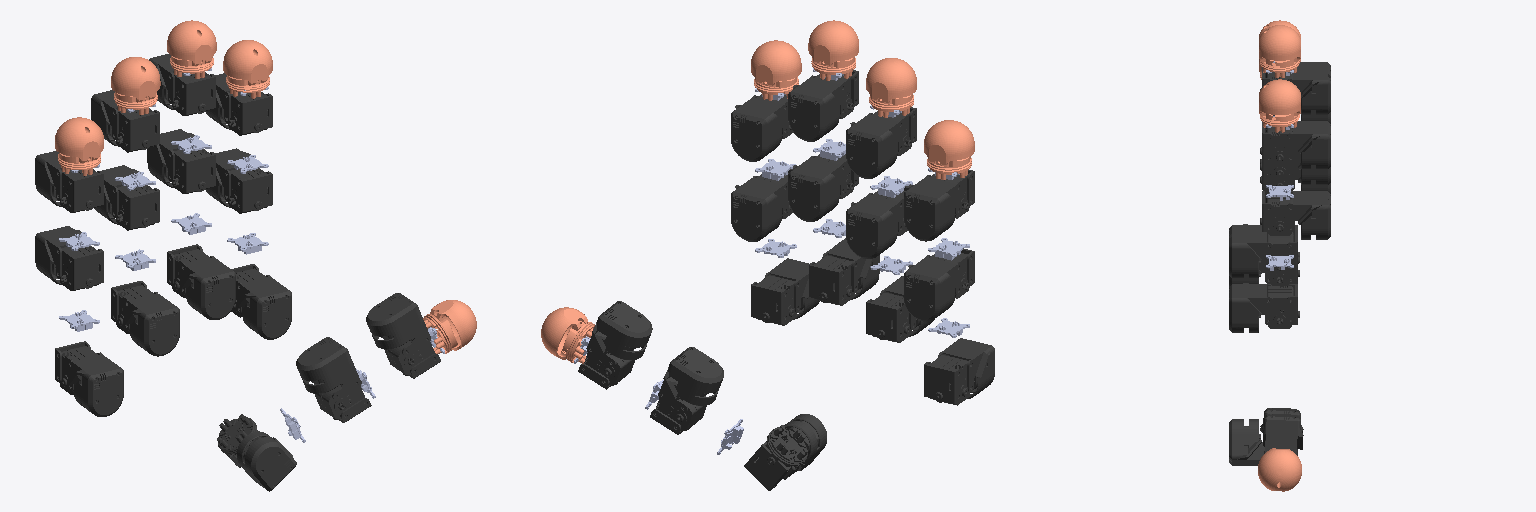
--- Facts derived from the render (not from the file) ---
3 views of the same robot in one strip: view 1: azimuth 30°, elevation 25°; view 2: azimuth 150°, elevation 25°; view 3: azimuth 270°, elevation 25° (orthographic).
Model hand_robot with 60 links and 59 joints (19 revolute, 40 fixed), rooted at base_link, posed every joint at zero.
Links seen in each view (by area): view 1: thumb_module2_link1, thumb_module3_link1, little_module1_link1, middle_module1_link1, ring_module1_link1, index_module1_link1, little_module2_link1, middle_module2_link1, little_module3_link1, index_module2_link1, ring_module3_link1, ring_module2_link1 (+9 smaller); view 2: thumb_module3_link1, thumb_module2_link1, little_module2_link1, little_module1_link1, little_module3_link1, middle_module3_link1, ring_module3_link1, middle_module2_link1, index_module1_link1, ring_module2_link1, middle_module1_link1, index_module2_link1 (+9 smaller); view 3: index_module1_link1, index_module2_link1, index_module3_link1, middle_module1_link1, index_module4_base_link, middle_module4_base_link, middle_module3_link1, thumb_module4_base_link, thumb_module1_link1, thumb_module3_link1, middle_module2_link1, little_module1_link1 (+1 smaller).
Link boxes in pixels (bbox=[...]): thumb_module2_link1: bbox=[296, 337, 371, 422]; thumb_module3_link1: bbox=[366, 293, 440, 378]; little_module1_link1: bbox=[55, 341, 123, 416]; middle_module1_link1: bbox=[167, 244, 235, 319]; ring_module1_link1: bbox=[111, 281, 179, 356]; index_module1_link1: bbox=[231, 264, 291, 339]; little_module2_link1: bbox=[35, 226, 103, 290]; middle_module2_link1: bbox=[147, 129, 215, 193]; little_module3_link1: bbox=[35, 151, 103, 212]; index_module2_link1: bbox=[206, 148, 272, 213]; ring_module3_link1: bbox=[91, 90, 159, 152]; ring_module2_link1: bbox=[94, 165, 159, 230]; thumb_module3_link1: bbox=[578, 301, 652, 389]; thumb_module2_link1: bbox=[650, 347, 723, 434]; little_module2_link1: bbox=[904, 248, 974, 321]; little_module1_link1: bbox=[924, 338, 994, 405]; little_module3_link1: bbox=[904, 170, 974, 241]; middle_module3_link1: bbox=[788, 70, 858, 141]; ring_module3_link1: bbox=[846, 107, 916, 178]; middle_module2_link1: bbox=[788, 154, 858, 221]; index_module1_link1: bbox=[751, 258, 819, 325]; ring_module2_link1: bbox=[846, 186, 908, 258]; middle_module1_link1: bbox=[809, 238, 879, 305]; index_module2_link1: bbox=[731, 169, 792, 241]; index_module1_link1: bbox=[1229, 283, 1299, 332]; index_module2_link1: bbox=[1260, 191, 1330, 239]; index_module3_link1: bbox=[1260, 121, 1330, 169]; middle_module1_link1: bbox=[1229, 229, 1299, 278]; index_module4_base_link: bbox=[1259, 79, 1300, 132]; middle_module4_base_link: bbox=[1259, 25, 1300, 77]; middle_module3_link1: bbox=[1262, 66, 1330, 114]; thumb_module4_base_link: bbox=[1258, 448, 1301, 491]; thumb_module1_link1: bbox=[1229, 419, 1297, 465]; thumb_module3_link1: bbox=[1263, 414, 1303, 454]; middle_module2_link1: bbox=[1260, 151, 1330, 184]; little_module1_link1: bbox=[1229, 260, 1299, 287].
Bounding box of the posed robot: 0.4067 × 0.096 × 0.4322 m (x, y, z).
Meshes: 20 distinct files referenced, 36 mesh visuals loaded (7 Collada DAE); not drawn: 24 (reference not matched to a file when rendering).

robot.urdf — hand_robot:
<?xml version="1.0" encoding="UTF-8"?>
<!-- =================================================================================== -->
<!-- |    This document was autogenerated by xacro from [local-path]/ros/kxr/src/walking_hand/handrobot_model/hand_robot.xacro | -->
<!-- |    EDITING THIS FILE BY HAND IS NOT RECOMMENDED                                 | -->
<!-- =================================================================================== -->
<robot name="hand_robot">
  <link name="base_link">
    <inertial>
      <origin xyz="-0.0537837189568639 -0.000735089523891269 0.0875877825389031" rpy="0.0 -0.0 0.0" />
      <mass value="0.274553101575067" />
      <inertia ixx="0.000434149537516523" ixy="3.82592618679265e-06" ixz="-0.000192550140415889" iyy="0.00117466284857924" iyz="1.01174695313173e-05" izz="0.000782483739198173" />
    </inertial>
    <visual>
      <geometry>
        <mesh filename="package://palm/meshes/base_link.dae" />
      </geometry>
      <material name="__unnamed_material_1" />
      <origin xyz="0.0 0.0 0.0" rpy="0.0 -0.0 0.0" />
    </visual>
    <collision>
      <geometry>
        <mesh filename="package://palm/meshes/base_link.dae" />
      </geometry>
      <origin xyz="0.0 0.0 0.0" rpy="0.0 -0.0 0.0" />
    </collision>
  </link>
  <link name="dummy_link1">
    <inertial>
      <origin xyz="-0.000172481557313531 6.01982933235365e-05 -0.00259009685862507" rpy="0.0 -0.0 0.0" />
      <mass value="0.0119886897783525" />
      <inertia ixx="1.92006679954346e-06" ixy="2.28901701935475e-09" ixz="-5.68819834183881e-09" iyy="1.95430556833594e-06" iyz="6.27899886931677e-10" izz="3.69885599478183e-06" />
    </inertial>
    <visual>
      <geometry>
        <mesh filename="package://palm/meshes/dummy_link1.dae" />
      </geometry>
      <material name="__unnamed_material_2" />
      <origin xyz="0.0 0.0 0.0" rpy="0.0 -0.0 0.0" />
    </visual>
    <collision>
      <geometry>
        <mesh filename="package://palm/meshes/dummy_link1.dae" />
      </geometry>
      <origin xyz="0.0 0.0 0.0" rpy="0.0 -0.0 0.0" />
    </collision>
  </link>
  <link name="dummy_link2">
    <inertial>
      <origin xyz="-0.000172481557313628 6.01982933235283e-05 -0.00259009685862507" rpy="0.0 -0.0 0.0" />
      <mass value="0.0119886897783526" />
      <inertia ixx="1.92006679954346e-06" ixy="2.28901701935204e-09" ixz="-5.68819834183908e-09" iyy="1.95430556833594e-06" iyz="6.27899886931739e-10" izz="3.69885599478183e-06" />
    </inertial>
    <visual>
      <geometry>
        <mesh filename="package://palm/meshes/dummy_link2.dae" />
      </geometry>
      <material name="__unnamed_material_3" />
      <origin xyz="0.0 0.0 0.0" rpy="0.0 -0.0 0.0" />
    </visual>
    <collision>
      <geometry>
        <mesh filename="package://palm/meshes/dummy_link2.dae" />
      </geometry>
      <origin xyz="0.0 0.0 0.0" rpy="0.0 -0.0 0.0" />
    </collision>
  </link>
  <link name="dummy_link3">
    <inertial>
      <origin xyz="-0.000172481557313607 6.01982933235322e-05 -0.00259009685862505" rpy="0.0 -0.0 0.0" />
      <mass value="0.0119886897783526" />
      <inertia ixx="1.92006679954346e-06" ixy="2.28901701935102e-09" ixz="-5.68819834183894e-09" iyy="1.95430556833594e-06" iyz="6.2789988693156e-10" izz="3.69885599478183e-06" />
    </inertial>
    <visual>
      <geometry>
        <mesh filename="package://palm/meshes/dummy_link3.dae" />
      </geometry>
      <material name="__unnamed_material_4" />
      <origin xyz="0.0 0.0 0.0" rpy="0.0 -0.0 0.0" />
    </visual>
    <collision>
      <geometry>
        <mesh filename="package://palm/meshes/dummy_link3.dae" />
      </geometry>
      <origin xyz="0.0 0.0 0.0" rpy="0.0 -0.0 0.0" />
    </collision>
  </link>
  <link name="dummy_link4">
    <inertial>
      <origin xyz="-0.00017248155731359 6.01982933235428e-05 -0.00259009685862505" rpy="0.0 -0.0 0.0" />
      <mass value="0.0119886897783526" />
      <inertia ixx="1.92006679954347e-06" ixy="2.28901701935341e-09" ixz="-5.68819834183874e-09" iyy="1.95430556833594e-06" iyz="6.27899886931517e-10" izz="3.69885599478184e-06" />
    </inertial>
    <visual>
      <geometry>
        <mesh filename="package://palm/meshes/dummy_link4.dae" />
      </geometry>
      <material name="__unnamed_material_5" />
      <origin xyz="0.0 0.0 0.0" rpy="0.0 -0.0 0.0" />
    </visual>
    <collision>
      <geometry>
        <mesh filename="package://palm/meshes/dummy_link4.dae" />
      </geometry>
      <origin xyz="0.0 0.0 0.0" rpy="0.0 -0.0 0.0" />
    </collision>
  </link>
  <link name="dummy_link5">
    <inertial>
      <origin xyz="-0.000172556814431887 6.02216550355177e-05 -0.00259010777209796" rpy="0.0 -0.0 0.0" />
      <mass value="0.0119886601362974" />
      <inertia ixx="1.9201418091373e-06" ixy="2.27696720708466e-09" ixz="-5.68868325973998e-09" iyy="1.95428446813742e-06" iyz="6.2782306321744e-10" izz="3.6989097395101e-06" />
    </inertial>
    <visual>
      <geometry>
        <mesh filename="package://palm/meshes/dummy_link5.dae" />
      </geometry>
      <material name="__unnamed_material_6" />
      <origin xyz="0.0 0.0 0.0" rpy="0.0 -0.0 0.0" />
    </visual>
    <collision>
      <geometry>
        <mesh filename="package://palm/meshes/dummy_link5.dae" />
      </geometry>
      <origin xyz="0.0 0.0 0.0" rpy="0.0 -0.0 0.0" />
    </collision>
  </link>
  <joint name="dummy_joint1" type="fixed">
    <limit effort="0.0" velocity="0.0" />
    <parent link="base_link" />
    <child link="dummy_link1" />
    <axis xyz="0. 0. 0." />
    <origin xyz="-0.134 0.0 0.104" rpy="0.0 -0.0 0.0" />
  </joint>
  <joint name="dummy_joint2" type="fixed">
    <limit effort="0.0" velocity="0.0" />
    <parent link="base_link" />
    <child link="dummy_link2" />
    <axis xyz="0. 0. 0." />
    <origin xyz="-0.0790000000000001 0.0 0.148" rpy="0.0 -0.0 0.0" />
  </joint>
  <joint name="dummy_joint3" type="fixed">
    <limit effort="0.0" velocity="0.0" />
    <parent link="base_link" />
    <child link="dummy_link3" />
    <axis xyz="0. 0. 0." />
    <origin xyz="-0.024 0.0 0.169" rpy="0.0 -0.0 0.0" />
  </joint>
  <joint name="dummy_joint4" type="fixed">
    <limit effort="0.0" velocity="0.0" />
    <parent link="base_link" />
    <child link="dummy_link4" />
    <axis xyz="0. 0. 0." />
    <origin xyz="0.0309999999999999 0.0 0.138" rpy="0.0 -0.0 0.0" />
  </joint>
  <joint name="dummy_joint5" type="fixed">
    <limit effort="0.0" velocity="0.0" />
    <parent link="base_link" />
    <child link="dummy_link5" />
    <axis xyz="0. 0. 0." />
    <origin xyz="0.018463196704848 0.0 0.0524638930461059" rpy="3.14159265358979 0.6356359574700541 3.14159265358978" />
  </joint>
  <material name="__unnamed_material_1">
    <color rgba="0.29803922 0.29803922 0.29803922 1.        " />
  </material>
  <material name="__unnamed_material_2">
    <color rgba="0.75294118 0.75294118 0.75294118 1.        " />
  </material>
  <material name="__unnamed_material_3">
    <color rgba="0.75294118 0.75294118 0.75294118 1.        " />
  </material>
  <material name="__unnamed_material_4">
    <color rgba="0.75294118 0.75294118 0.75294118 1.        " />
  </material>
  <material name="__unnamed_material_5">
    <color rgba="0.75294118 0.75294118 0.75294118 1.        " />
  </material>
  <material name="__unnamed_material_6">
    <color rgba="0.75294118 0.75294118 0.75294118 1.        " />
  </material>
  <joint name="dummy_link1_to_little_module1_base_link_joint" type="fixed">
    <parent link="dummy_link1" />
    <child link="little_module1_base_link" />
    <origin xyz="0 0 0" rpy="0.0 0.0 3.14159265359" />
  </joint>
  <link name="little_module1_base_link">
    <inertial>
      <origin xyz="-0.000213433946328543 -0.000522257566248314 0.010512356078851" rpy="0.0 -0.0 0.0" />
      <mass value="0.0119791718336502" />
      <inertia ixx="1.31621870893497e-06" ixy="-5.13940617703683e-09" ixz="6.92655022774858e-09" iyy="1.42670892278346e-06" iyz="5.85355266632325e-09" izz="1.57468742862286e-06" />
    </inertial>
    <visual>
      <geometry>
        <mesh filename="package://screw_cross_module_cover_invert_50mm/meshes/base_link.dae" />
      </geometry>
      <material name="little_module1___unnamed_material_1" />
      <origin xyz="0.0 0.0 0.0" rpy="0.0 -0.0 0.0" />
    </visual>
    <collision>
      <geometry>
        <mesh filename="package://screw_cross_module_cover_invert_50mm/meshes/base_link.dae" />
      </geometry>
      <origin xyz="0.0 0.0 0.0" rpy="0.0 -0.0 0.0" />
    </collision>
  </link>
  <link name="little_module1_link1">
    <inertial>
      <origin xyz="2.40548098907604e-05 0.0170200166175038 0.00743211422338727" rpy="0.0 -0.0 0.0" />
      <mass value="0.0528420021206123" />
      <inertia ixx="8.46927525862569e-06" ixy="3.77104103813554e-08" ixz="-2.40264131836263e-09" iyy="9.18514204610879e-06" iyz="3.33117292501083e-07" izz="7.42897064027825e-06" />
    </inertial>
    <visual>
      <geometry>
        <mesh filename="package://screw_cross_module_cover_invert_50mm/meshes/link1.dae" />
      </geometry>
      <material name="little_module1___unnamed_material_2" />
      <origin xyz="0.0 0.0 0.0" rpy="0.0 -0.0 0.0" />
    </visual>
    <collision>
      <geometry>
        <mesh filename="package://screw_cross_module_cover_invert_50mm/meshes/link1.dae" />
      </geometry>
      <origin xyz="0.0 0.0 0.0" rpy="0.0 -0.0 0.0" />
    </collision>
  </link>
  <link name="little_module1_link2">
    <inertial>
      <origin xyz="-0.000799904651096249 0.000126545018078978 0.0439031855091127" rpy="0.0 -0.0 0.0" />
      <mass value="0.0184890044461961" />
      <inertia ixx="3.86018266499349e-06" ixy="-2.57346007074634e-09" ixz="-1.33830705751634e-08" iyy="3.71216828080987e-06" iyz="1.02631852497554e-09" izz="3.85438258007771e-06" />
    </inertial>
    <visual>
      <geometry>
        <mesh filename="package://screw_cross_module_cover_invert_50mm/meshes/link2.dae" />
      </geometry>
      <material name="little_module1___unnamed_material_3" />
      <origin xyz="0.0 0.0 0.0" rpy="0.0 -0.0 0.0" />
    </visual>
    <collision>
      <geometry>
        <mesh filename="package://screw_cross_module_cover_invert_50mm/meshes/link2.dae" />
      </geometry>
      <origin xyz="0.0 0.0 0.0" rpy="0.0 -0.0 0.0" />
    </collision>
  </link>
  <link name="little_module1_dummy_link">
    <inertial>
      <origin xyz="-0.00146131369472048 0.000201870283507455 -0.00283550060362608" rpy="0.0 -0.0 0.0" />
      <mass value="0.00131295075943631" />
      <inertia ixx="5.41755504446202e-08" ixy="1.27650591705179e-09" ixz="-4.82976525885559e-09" iyy="5.88144881419791e-08" iyz="3.56234285318554e-10" izz="1.05520720481508e-07" />
    </inertial>
    <visual>
      <geometry>
        <mesh filename="package://screw_cross_module_cover_invert_50mm/meshes/dummy_link.dae" />
      </geometry>
      <material name="little_module1___unnamed_material_4" />
      <origin xyz="0.0 0.0 0.0" rpy="0.0 -0.0 0.0" />
    </visual>
    <collision>
      <geometry>
        <mesh filename="package://screw_cross_module_cover_invert_50mm/meshes/dummy_link.dae" />
      </geometry>
      <origin xyz="0.0 0.0 0.0" rpy="0.0 -0.0 0.0" />
    </collision>
  </link>
  <joint name="little_module1_joint1" type="revolute">
    <limit effort="0.0" lower="-1.5" upper="1.5" velocity="0.0" />
    <parent link="little_module1_base_link" />
    <child link="little_module1_link1" />
    <axis xyz=" 0. -1.  0." />
    <origin xyz="0.0 0.0 0.0349999999999999" rpy="0.0 -0.0 0.0" />
  </joint>
  <joint name="little_module1_joint2" type="revolute">
    <limit effort="0.0" lower="-0.698" upper="1.57" velocity="0.0" />
    <parent link="little_module1_link1" />
    <child link="little_module1_link2" />
    <axis xyz="1. 0. 0." />
    <origin xyz="0.0 0.0 0.0" rpy="0.0 -0.0 0.0" />
  </joint>
  <joint name="little_module1_dummy_joint" type="fixed">
    <limit effort="0.0" velocity="0.0" />
    <parent link="little_module1_link2" />
    <child link="little_module1_dummy_link" />
    <axis xyz="0. 0. 0." />
    <origin xyz="0.0 0.0 0.0569999998698719" rpy="0.0 -0.0 -1.5707963267949003" />
  </joint>
  <material name="little_module1___unnamed_material_1">
    <color rgba="0.75294118 0.75294118 0.75294118 1.        " />
  </material>
  <material name="little_module1___unnamed_material_2">
    <color rgba="0.29803922 0.29803922 0.29803922 1.        " />
  </material>
  <material name="little_module1___unnamed_material_3">
    <color rgba="0.75294118 0.75294118 0.75294118 1.        " />
  </material>
  <material name="little_module1___unnamed_material_4">
    <color rgba="0.79215686 0.81960784 0.93333333 1.        " />
  </material>
  <joint name="little_module1_dummy_link_to_little_module2_base_link_joint" type="fixed">
    <parent link="little_module1_dummy_link" />
    <child link="little_module2_base_link" />
    <origin xyz="0 0 0" rpy="0 0 -1.5707963267948966" />
  </joint>
  <link name="little_module2_base_link">
    <inertial>
      <origin xyz="-0.000397243037985137 -0.000299123988951571 0.0268900174967925" rpy="0.0 -0.0 0.0" />
      <mass value="0.0392907478850212" />
      <inertia ixx="6.49315163386437e-06" ixy="-1.58700153015025e-07" ixz="1.07943557378575e-07" iyy="7.59585884582494e-06" iyz="-1.02493309535865e-09" izz="5.32693747823652e-06" />
    </inertial>
    <visual>
      <geometry>
        <mesh filename="package://screw_26mmhinge_module_cover_0deg/meshes/base_link.dae" />
      </geometry>
      <material name="little_module2___unnamed_material_1" />
      <origin xyz="0.0 0.0 0.0" rpy="0.0 -0.0 0.0" />
    </visual>
    <collision>
      <geometry>
        <mesh filename="package://screw_26mmhinge_module_cover_0deg/meshes/base_link.dae" />
      </geometry>
      <origin xyz="0.0 0.0 0.0" rpy="0.0 -0.0 0.0" />
    </collision>
  </link>
  <link name="little_module2_link1">
    <inertial>
      <origin xyz="0.00050176181802974 0.000131881332311372 0.0261566388593281" rpy="0.0 -0.0 0.0" />
      <mass value="0.015679495466009" />
      <inertia ixx="2.36251577154097e-06" ixy="-2.28902268828607e-09" ixz="1.04881203366641e-08" iyy="2.26742863290264e-06" iyz="5.68818291644029e-09" izz="3.78920030884968e-06" />
    </inertial>
    <visual>
      <geometry>
        <mesh filename="package://screw_26mmhinge_module_cover_0deg/meshes/link1.dae" />
      </geometry>
      <material name="little_module2___unnamed_material_2" />
      <origin xyz="0.0 0.0 0.0" rpy="0.0 -0.0 0.0" />
    </visual>
    <collision>
      <geometry>
        <mesh filename="package://screw_26mmhinge_module_cover_0deg/meshes/link1.dae" />
      </geometry>
      <origin xyz="0.0 0.0 0.0" rpy="0.0 -0.0 0.0" />
    </collision>
  </link>
  <link name="little_module2_dummy_link">
    <inertial>
      <origin xyz="-0.0014613136949066 0.000201870283592702 -0.00283550060370832" rpy="0.0 -0.0 0.0" />
      <mass value="0.00131295075943631" />
      <inertia ixx="5.41755504446753e-08" ixy="1.27650591704971e-09" ixz="-4.82976525914748e-09" iyy="5.88144881419792e-08" iyz="3.56234285325651e-10" izz="1.05520720481453e-07" />
    </inertial>
    <visual>
      <geometry>
        <mesh filename="package://screw_26mmhinge_module_cover_0deg/meshes/dummy_link.dae" />
      </geometry>
      <material name="little_module2___unnamed_material_3" />
      <origin xyz="0.0 0.0 0.0" rpy="0.0 -0.0 0.0" />
    </visual>
    <collision>
      <geometry>
        <mesh filename="package://screw_26mmhinge_module_cover_0deg/meshes/dummy_link.dae" />
      </geometry>
      <origin xyz="0.0 0.0 0.0" rpy="0.0 -0.0 0.0" />
    </collision>
  </link>
  <joint name="little_module2_joint1" type="revolute">
    <limit effort="0.0" lower="0.0" upper="1.78" velocity="0.0" />
    <parent link="little_module2_base_link" />
    <child link="little_module2_link1" />
    <axis xyz="-1.  0.  0." />
    <origin xyz="0.0 0.0 0.04" rpy="0.0 -0.0 0.0" />
  </joint>
  <joint name="little_module2_dummy_joint" type="fixed">
    <limit effort="0.0" velocity="0.0" />
    <parent link="little_module2_link1" />
    <child link="little_module2_dummy_link" />
    <axis xyz="0. 0. 0." />
    <origin xyz="0.0 0.0 0.033" rpy="0.0 -0.0 -1.57079632679492" />
  </joint>
  <material name="little_module2___unnamed_material_1">
    <color rgba="0.75294118 0.75294118 0.75294118 1.        " />
  </material>
  <material name="little_module2___unnamed_material_2">
    <color rgba="0.29803922 0.29803922 0.29803922 1.        " />
  </material>
  <material name="little_module2___unnamed_material_3">
    <color rgba="0.79215686 0.81960784 0.93333333 1.        " />
  </material>
  <joint name="little_module2_dummy_link_to_little_module3_base_link_joint" type="fixed">
    <parent link="little_module2_dummy_link" />
    <child link="little_module3_base_link" />
    <origin xyz="0 0 0" rpy="0 0 1.5707963267948966" />
  </joint>
  <link name="little_module3_base_link">
    <inertial>
      <origin xyz="-0.000401252669389229 -0.000241503883848603 0.0265833789284656" rpy="0.0 -0.0 0.0" />
      <mass value="0.0388983022333583" />
      <inertia ixx="6.28968153745185e-06" ixy="-1.58891717516252e-07" ixz="1.06958872572826e-07" iyy="7.30853508101172e-06" iyz="2.75384527151901e-08" izz="5.23270325750328e-06" />
    </inertial>
    <visual>
      <geometry>
        <mesh filename="package://screw_26mmhinge_module_cover_40deg/meshes/base_link.dae" />
      </geometry>
      <material name="little_module3___unnamed_material_1" />
      <origin xyz="0.0 0.0 0.0" rpy="0.0 -0.0 0.0" />
    </visual>
    <collision>
      <geometry>
        <mesh filename="package://screw_26mmhinge_module_cover_40deg/meshes/base_link.dae" />
      </geometry>
      <origin xyz="0.0 0.0 0.0" rpy="0.0 -0.0 0.0" />
    </collision>
  </link>
  <link name="little_module3_link1">
    <inertial>
      <origin xyz="0.00050176181802974 0.000131881332311375 0.0261566388593281" rpy="0.0 -0.0 0.0" />
      <mass value="0.0156794954660089" />
      <inertia ixx="2.36251577154097e-06" ixy="-2.28902268828719e-09" ixz="1.04881203366649e-08" iyy="2.26742863290264e-06" iyz="5.68818291644002e-09" izz="3.78920030884968e-06" />
    </inertial>
    <visual>
      <geometry>
        <mesh filename="package://screw_26mmhinge_module_cover_40deg/meshes/link1.dae" />
      </geometry>
      <material name="little_module3___unnamed_material_2" />
      <origin xyz="0.0 0.0 0.0" rpy="0.0 -0.0 0.0" />
    </visual>
    <collision>
      <geometry>
        <mesh filename="package://screw_26mmhinge_module_cover_40deg/meshes/link1.dae" />
      </geometry>
      <origin xyz="0.0 0.0 0.0" rpy="0.0 -0.0 0.0" />
    </collision>
  </link>
  <link name="little_module3_dummy_link">
    <inertial>
      <origin xyz="-0.0014613136949066 0.000201870283592712 -0.00283550060370834" rpy="0.0 -0.0 0.0" />
      <mass value="0.00131295075943631" />
      <inertia ixx="5.41755504446752e-08" ixy="1.27650591704971e-09" ixz="-4.82976525914747e-09" iyy="5.88144881419792e-08" iyz="3.56234285325664e-10" izz="1.05520720481453e-07" />
    </inertial>
    <visual>
      <geometry>
        <mesh filename="package://screw_26mmhinge_module_cover_40deg/meshes/dummy_link.dae" />
      </geometry>
      <material name="little_module3___unnamed_material_3" />
      <origin xyz="0.0 0.0 0.0" rpy="0.0 -0.0 0.0" />
    </visual>
    <collision>
      <geometry>
        <mesh filename="package://screw_26mmhinge_module_cover_40deg/meshes/dummy_link.dae" />
      </geometry>
      <origin xyz="0.0 0.0 0.0" rpy="0.0 -0.0 0.0" />
    </collision>
  </link>
  <joint name="little_module3_joint1" type="revolute">
    <limit effort="0.0" lower="-0.698" upper="1.78" velocity="0.0" />
    <parent link="little_module3_base_link" />
    <child link="little_module3_link1" />
    <axis xyz="-1.  0.  0." />
    <origin xyz="0.0 0.0 0.04" rpy="0.0 -0.0 0.0" />
  </joint>
  <joint name="little_module3_dummy_joint" type="fixed">
    <limit effort="0.0" velocity="0.0" />
    <parent link="little_module3_link1" />
    <child link="little_module3_dummy_link" />
    <axis xyz="0. 0. 0." />
    <origin xyz="0.0 0.0 0.033" rpy="0.0 -0.0 -1.57079632679492" />
  </joint>
  <material name="little_module3___unnamed_material_1">
    <color rgba="1.         0.6627451  0.54117647 1.        " />
  </material>
  <material name="little_module3___unnamed_material_2">
    <color rgba="0.29803922 0.29803922 0.29803922 1.        " />
  </material>
  <material name="little_module3___unnamed_material_3">
    <color rgba="0.79215686 0.81960784 0.93333333 1.        " />
  </material>
  <joint name="little_module3_dummy_link_to_little_module4_base_link_joint" type="fixed">
    <parent link="little_module3_dummy_link" />
    <child link="little_module4_base_link" />
    <origin xyz="0 0 0" rpy="0 0 1.5707963267948966" />
  </joint>
  <link name="little_module4_base_link">
    <inertial>
      <origin xyz="-4.45136749414631e-05 2.74911354251475e-05 0.01526296474957" rpy="0.0 -0.0 0.0" />
      <mass value="0.0143355339373342" />
      <inertia ixx="1.67198153889703e-06" ixy="-3.86118634343168e-09" ixz="2.09684473771432e-09" iyy="2.41636111915256e-06" iyz="2.62797611358753e-09" izz="2.60259577595367e-06" />
    </inertial>
    <visual>
      <geometry>
        <mesh filename="package://fingertip/meshes/base_link.dae" />
      </geometry>
      <material name="little_module4___unnamed_material_1" />
      <origin xyz="0.0 0.0 0.0" rpy="0.0 -0.0 0.0" />
    </visual>
    <collision>
      <geometry>
        <mesh filename="package://fingertip/meshes/base_link.dae" />
      </geometry>
      <origin xyz="0.0 0.0 0.0" rpy="0.0 -0.0 0.0" />
    </collision>
  </link>
  <material name="little_module4___unnamed_material_1">
    <color rgba="1.         0.6627451  0.54117647 1.        " />
  </material>
  <joint name="dummy_link2_to_ring_module1_base_link_joint" type="fixed">
    <parent link="dummy_link2" />
    <child link="ring_module1_base_link" />
    <origin xyz="0 0 0" rpy="0.0 0.0 3.14159265359" />
  </joint>
  <link name="ring_module1_base_link">
    <inertial>
      <origin xyz="-0.000213433946328543 -0.000522257566248314 0.010512356078851" rpy="0.0 -0.0 0.0" />
      <mass value="0.0119791718336502" />
      <inertia ixx="1.31621870893497e-06" ixy="-5.13940617703683e-09" ixz="6.92655022774858e-09" iyy="1.42670892278346e-06" iyz="5.85355266632325e-09" izz="1.57468742862286e-06" />
    </inertial>
    <visual>
      <geometry>
        <mesh filename="package://screw_cross_module_cover_invert_50mm/meshes/base_link.dae" />
      </geometry>
      <material name="ring_module1___unnamed_material_1" />
      <origin xyz="0.0 0.0 0.0" rpy="0.0 -0.0 0.0" />
    </visual>
    <collision>
      <geometry>
        <mesh filename="package://screw_cross_module_cover_invert_50mm/meshes/base_link.dae" />
      </geometry>
      <origin xyz="0.0 0.0 0.0" rpy="0.0 -0.0 0.0" />
    </collision>
  </link>
  <link name="ring_module1_link1">
    <inertial>
      <origin xyz="2.40548098907604e-05 0.0170200166175038 0.00743211422338727" rpy="0.0 -0.0 0.0" />
      <mass value="0.0528420021206123" />
      <inertia ixx="8.46927525862569e-06" ixy="3.77104103813554e-08" ixz="-2.40264131836263e-09" iyy="9.18514204610879e-06" iyz="3.33117292501083e-07" izz="7.42897064027825e-06" />
    </inertial>
    <visual>
      <geometry>
        <mesh filename="package://screw_cross_module_cover_invert_50mm/meshes/link1.dae" />
      </geometry>
      <material name="ring_module1___unnamed_material_2" />
      <origin xyz="0.0 0.0 0.0" rpy="0.0 -0.0 0.0" />
    </visual>
    <collision>
      <geometry>
        <mesh filename="package://screw_cross_module_cover_invert_50mm/meshes/link1.dae" />
      </geometry>
      <origin xyz="0.0 0.0 0.0" rpy="0.0 -0.0 0.0" />
    </collision>
  </link>
  <link name="ring_module1_link2">
    <inertial>
      <origin xyz="-0.000799904651096249 0.000126545018078978 0.0439031855091127" rpy="0.0 -0.0 0.0" />
      <mass value="0.0184890044461961" />
      <inertia ixx="3.86018266499349e-06" ixy="-2.57346007074634e-09" ixz="-1.33830705751634e-08" iyy="3.71216828080987e-06" iyz="1.02631852497554e-09" izz="3.85438258007771e-06" />
    </inertial>
    <visual>
      <geometry>
        <mesh filename="package://screw_cross_module_cover_invert_50mm/meshes/link2.dae" />
      </geometry>
      <material name="ring_module1___unnamed_material_3" />
      <origin xyz="0.0 0.0 0.0" rpy="0.0 -0.0 0.0" />
    </visual>
    <collision>
      <geometry>
        <mesh filename="package://screw_cross_module_cover_invert_50mm/meshes/link2.dae" />
      </geometry>
      <origin xyz="0.0 0.0 0.0" rpy="0.0 -0.0 0.0" />
    </collision>
  </link>
  <link name="ring_module1_dummy_link">
    <inertial>
      <origin xyz="-0.00146131369472048 0.000201870283507455 -0.00283550060362608" rpy="0.0 -0.0 0.0" />
      <mass value="0.00131295075943631" />
      <inertia ixx="5.41755504446202e-08" ixy="1.27650591705179e-09" ixz="-4.82976525885559e-09" iyy="5.88144881419791e-08" iyz="3.56234285318554e-10" izz="1.05520720481508e-07" />
    </inertial>
    <visual>
      <geometry>
        <mesh filename="package://screw_cross_module_cover_invert_50mm/meshes/dummy_link.dae" />
      </geometry>
      <material name="ring_module1___unnamed_material_4" />
      <origin xyz="0.0 0.0 0.0" rpy="0.0 -0.0 0.0" />
    </visual>
    <collision>
      <geometry>
        <mesh filename="package://screw_cross_module_cover_invert_50mm/meshes/dummy_link.dae" />
      </geometry>
      <origin xyz="0.0 0.0 0.0" rpy="0.0 -0.0 0.0" />
    </collision>
  </link>
  <joint name="ring_module1_joint1" type="revolute">
    <limit effort="0.0" lower="-1.5" upper="1.5" velocity="0.0" />
    <parent link="ring_module1_base_link" />
    <child link="ring_module1_link1" />
    <axis xyz=" 0. -1.  0." />
    <origin xyz="0.0 0.0 0.0349999999999999" rpy="0.0 -0.0 0.0" />
  </joint>
  <joint name="ring_module1_joint2" type="revolute">
    <limit effort="0.0" lower="-0.698" upper="1.57" velocity="0.0" />
    <parent link="ring_module1_link1" />
    <child link="ring_module1_link2" />
    <axis xyz="1. 0. 0." />
    <origin xyz="0.0 0.0 0.0" rpy="0.0 -0.0 0.0" />
  </joint>
  <joint name="ring_module1_dummy_joint" type="fixed">
    <limit effort="0.0" velocity="0.0" />
    <parent link="ring_module1_link2" />
    <child link="ring_module1_dummy_link" />
    <axis xyz="0. 0. 0." />
    <origin xyz="0.0 0.0 0.0569999998698719" rpy="0.0 -0.0 -1.5707963267949003" />
  </joint>
  <material name="ring_module1___unnamed_material_1">
    <color rgba="0.75294118 0.75294118 0.75294118 1.        " />
  </material>
  <material name="ring_module1___unnamed_material_2">
    <color rgba="0.29803922 0.29803922 0.29803922 1.        " />
  </material>
  <material name="ring_module1___unnamed_material_3">
    <color rgba="0.75294118 0.75294118 0.75294118 1.        " />
  </material>
  <material name="ring_module1___unnamed_material_4">
    <color rgba="0.79215686 0.81960784 0.93333333 1.        " />
  </material>
  <joint name="ring_module1_dummy_link_to_ring_module2_base_link_joint" type="fixed">
    <parent link="ring_module1_dummy_link" />
    <child link="ring_module2_base_link" />
    <origin xyz="0 0 0" rpy="0 0 -1.5707963267948966" />
  </joint>
  <link name="ring_module2_base_link">
    <inertial>
      <origin xyz="-0.000397243037985137 -0.000299123988951571 0.0268900174967925" rpy="0.0 -0.0 0.0" />
      <mass value="0.0392907478850212" />
      <inertia ixx="6.49315163386437e-06" ixy="-1.58700153015025e-07" ixz="1.07943557378575e-07" iyy="7.59585884582494e-06" iyz="-1.02493309535865e-09" izz="5.32693747823652e-06" />
    </inertial>
    <visual>
      <geometry>
        <mesh filename="package://screw_26mmhinge_module_cover_0deg/meshes/base_link.dae" />
      </geometry>
      <material name="ring_module2___unnamed_material_1" />
      <origin xyz="0.0 0.0 0.0" rpy="0.0 -0.0 0.0" />
    </visual>
    <collision>
      <geometry>
        <mesh filename="package://screw_26mmhinge_module_cover_0deg/meshes/base_link.dae" />
      </geometry>
      <origin xyz="0.0 0.0 0.0" rpy="0.0 -0.0 0.0" />
    </collision>
  </link>
  <link name="ring_module2_link1">
    <inertial>
      <origin xyz="0.00050176181802974 0.000131881332311372 0.0261566388593281" rpy="0.0 -0.0 0.0" />
      <mass value="0.015679495466009" />
      <inertia ixx="2.36251577154097e-06" ixy="-2.28902268828607e-09" ixz="1.04881203366641e-08" iyy="2.26742863290264e-06" iyz="5.68818291644029e-09" izz="3.78920030884968e-06" />
    </inertial>
    <visual>
      <geometry>
        <mesh filename="package://screw_26mmhinge_module_cover_0deg/meshes/link1.dae" />
      </geometry>
      <material name="ring_module2___unnamed_material_2" />
      <origin xyz="0.0 0.0 0.0" rpy="0.0 -0.0 0.0" />
    </visual>
    <collision>
      <geometry>
        <mesh filename="package://screw_26mmhinge_module_cover_0deg/meshes/link1.dae" />
      </geometry>
      <origin xyz="0.0 0.0 0.0" rpy="0.0 -0.0 0.0" />
    </collision>
  </link>
  <link name="ring_module2_dummy_link">
    <inertial>
      <origin xyz="-0.0014613136949066 0.000201870283592702 -0.00283550060370832" rpy="0.0 -0.0 0.0" />
      <mass value="0.00131295075943631" />
      <inertia ixx="5.41755504446753e-08" ixy="1.27650591704971e-09" ixz="-4.82976525914748e-09" iyy="5.88144881419792e-08" iyz="3.56234285325651e-10" izz="1.05520720481453e-07" />
    </inertial>
    <visual>
      <geometry>
        <mesh filename="package://screw_26mmhinge_module_cover_0deg/meshes/dummy_link.dae" />
      </geometry>
      <material name="ring_module2___unnamed_material_3" />
      <origin xyz="0.0 0.0 0.0" rpy="0.0 -0.0 0.0" />
    </visual>
    <collision>
      <geometry>
        <mesh filename="package://screw_26mmhinge_module_cover_0deg/meshes/dummy_link.dae" />
      </geometry>
      <origin xyz="0.0 0.0 0.0" rpy="0.0 -0.0 0.0" />
    </collision>
  </link>
  <joint name="ring_module2_joint1" type="revolute">
    <limit effort="0.0" lower="0.0" upper="1.78" velocity="0.0" />
    <parent link="ring_module2_base_link" />
    <child link="ring_module2_link1" />
    <axis xyz="-1.  0.  0." />
    <origin xyz="0.0 0.0 0.04" rpy="0.0 -0.0 0.0" />
  </joint>
  <joint name="ring_module2_dummy_joint" type="fixed">
    <limit effort="0.0" velocity="0.0" />
    <parent link="ring_module2_link1" />
    <child link="ring_module2_dummy_link" />
    <axis xyz="0. 0. 0." />
    <origin xyz="0.0 0.0 0.033" rpy="0.0 -0.0 -1.57079632679492" />
  </joint>
  <material name="ring_module2___unnamed_material_1">
    <color rgba="0.75294118 0.75294118 0.75294118 1.        " />
  </material>
  <material name="ring_module2___unnamed_material_2">
    <color rgba="0.29803922 0.29803922 0.29803922 1.        " />
  </material>
  <material name="ring_module2___unnamed_material_3">
    <color rgba="0.79215686 0.81960784 0.93333333 1.        " />
  </material>
  <joint name="ring_module2_dummy_link_to_ring_module3_base_link_joint" type="fixed">
    <parent link="ring_module2_dummy_link" />
    <child link="ring_module3_base_link" />
    <origin xyz="0 0 0" rpy="0 0 1.5707963267948966" />
  </joint>
  <link name="ring_module3_base_link">
    <inertial>
      <origin xyz="-0.000401252669389229 -0.000241503883848603 0.0265833789284656" rpy="0.0 -0.0 0.0" />
      <mass value="0.0388983022333583" />
      <inertia ixx="6.28968153745185e-06" ixy="-1.58891717516252e-07" ixz="1.06958872572826e-07" iyy="7.30853508101172e-06" iyz="2.75384527151901e-08" izz="5.23270325750328e-06" />
    </inertial>
    <visual>
      <geometry>
        <mesh filename="package://screw_26mmhinge_module_cover_40deg/meshes/base_link.dae" />
      </geometry>
      <material name="ring_module3___unnamed_material_1" />
      <origin xyz="0.0 0.0 0.0" rpy="0.0 -0.0 0.0" />
    </visual>
    <collision>
      <geometry>
        <mesh filename="package://screw_26mmhinge_module_cover_40deg/meshes/base_link.dae" />
      </geometry>
      <origin xyz="0.0 0.0 0.0" rpy="0.0 -0.0 0.0" />
    </collision>
  </link>
  <link name="ring_module3_link1">
    <inertial>
      <origin xyz="0.00050176181802974 0.000131881332311375 0.0261566388593281" rpy="0.0 -0.0 0.0" />
      <mass value="0.0156794954660089" />
      <inertia ixx="2.36251577154097e-06" ixy="-2.28902268828719e-09" ixz="1.04881203366649e-08" iyy="2.26742863290264e-06" iyz="5.68818291644002e-09" izz="3.78920030884968e-06" />
    </inertial>
    <visual>
      <geometry>
        <mesh filename="package://screw_26mmhinge_module_cover_40deg/meshes/link1.dae" />
      </geometry>
      <material name="ring_module3___unnamed_material_2" />
      <origin xyz="0.0 0.0 0.0" rpy="0.0 -0.0 0.0" />
    </visual>
    <collision>
      <geometry>
        <mesh filename="package://screw_26mmhinge_module_cover_40deg/meshes/link1.dae" />
      </geometry>
      <origin xyz="0.0 0.0 0.0" rpy="0.0 -0.0 0.0" />
    </collision>
  </link>
  <link name="ring_module3_dummy_link">
    <inertial>
      <origin xyz="-0.0014613136949066 0.000201870283592712 -0.00283550060370834" rpy="0.0 -0.0 0.0" />
      <mass value="0.00131295075943631" />
      <inertia ixx="5.41755504446752e-08" ixy="1.27650591704971e-09" ixz="-4.82976525914747e-09" iyy="5.88144881419792e-08" iyz="3.56234285325664e-10" izz="1.05520720481453e-07" />
    </inertial>
    <visual>
      <geometry>
        <mesh filename="package://screw_26mmhinge_module_cover_40deg/meshes/dummy_link.dae" />
      </geometry>
      <material name="ring_module3___unnamed_material_3" />
      <origin xyz="0.0 0.0 0.0" rpy="0.0 -0.0 0.0" />
    </visual>
    <collision>
      <geometry>
        <mesh filename="package://screw_26mmhinge_module_cover_40deg/meshes/dummy_link.dae" />
      </geometry>
      <origin xyz="0.0 0.0 0.0" rpy="0.0 -0.0 0.0" />
    </collision>
  </link>
  <joint name="ring_module3_joint1" type="revolute">
    <limit effort="0.0" lower="-0.698" upper="1.78" velocity="0.0" />
    <parent link="ring_module3_base_link" />
    <child link="ring_module3_link1" />
    <axis xyz="-1.  0.  0." />
    <origin xyz="0.0 0.0 0.04" rpy="0.0 -0.0 0.0" />
  </joint>
  <joint name="ring_module3_dummy_joint" type="fixed">
    <limit effort="0.0" velocity="0.0" />
    <parent link="ring_module3_link1" />
    <child link="ring_module3_dummy_link" />
    <axis xyz="0. 0. 0." />
    <origin xyz="0.0 0.0 0.033" rpy="0.0 -0.0 -1.57079632679492" />
  </joint>
  <material name="ring_module3___unnamed_material_1">
    <color rgba="1.         0.6627451  0.54117647 1.        " />
  </material>
  <material name="ring_module3___unnamed_material_2">
    <color rgba="0.29803922 0.29803922 0.29803922 1.        " />
  </material>
  <material name="ring_module3___unnamed_material_3">
    <color rgba="0.79215686 0.81960784 0.93333333 1.        " />
  </material>
  <joint name="ring_module3_dummy_link_to_ring_module4_base_link_joint" type="fixed">
    <parent link="ring_module3_dummy_link" />
    <child link="ring_module4_base_link" />
    <origin xyz="0 0 0" rpy="0 0 1.5707963267948966" />
  </joint>
  <link name="ring_module4_base_link">
    <inertial>
      <origin xyz="-4.45136749414631e-05 2.74911354251475e-05 0.01526296474957" rpy="0.0 -0.0 0.0" />
      <mass value="0.0143355339373342" />
      <inertia ixx="1.67198153889703e-06" ixy="-3.86118634343168e-09" ixz="2.09684473771432e-09" iyy="2.41636111915256e-06" iyz="2.62797611358753e-09" izz="2.60259577595367e-06" />
    </inertial>
    <visual>
      <geometry>
        <mesh filename="package://fingertip/meshes/base_link.dae" />
      </geometry>
      <material name="ring_module4___unnamed_material_1" />
      <origin xyz="0.0 0.0 0.0" rpy="0.0 -0.0 0.0" />
    </visual>
    <collision>
      <geometry>
        <mesh filename="package://fingertip/meshes/base_link.dae" />
      </geometry>
      <origin xyz="0.0 0.0 0.0" rpy="0.0 -0.0 0.0" />
    </collision>
  </link>
  <material name="ring_module4___unnamed_material_1">
    <color rgba="1.         0.6627451  0.54117647 1.        " />
  </material>
  <joint name="dummy_link3_to_middle_module1_base_link_joint" type="fixed">
    <parent link="dummy_link3" />
    <child link="middle_module1_base_link" />
    <origin xyz="0 0 0" rpy="0.0 0.0 3.14159265359" />
  </joint>
  <link name="middle_module1_base_link">
    <inertial>
      <origin xyz="-0.000213433946328543 -0.000522257566248314 0.010512356078851" rpy="0.0 -0.0 0.0" />
      <mass value="0.0119791718336502" />
      <inertia ixx="1.31621870893497e-06" ixy="-5.13940617703683e-09" ixz="6.92655022774858e-09" iyy="1.42670892278346e-06" iyz="5.85355266632325e-09" izz="1.57468742862286e-06" />
    </inertial>
    <visual>
      <geometry>
        <mesh filename="package://screw_cross_module_cover_invert_50mm/meshes/base_link.dae" />
      </geometry>
      <material name="middle_module1___unnamed_material_1" />
      <origin xyz="0.0 0.0 0.0" rpy="0.0 -0.0 0.0" />
    </visual>
    <collision>
      <geometry>
        <mesh filename="package://screw_cross_module_cover_invert_50mm/meshes/base_link.dae" />
      </geometry>
      <origin xyz="0.0 0.0 0.0" rpy="0.0 -0.0 0.0" />
    </collision>
  </link>
  <link name="middle_module1_link1">
    <inertial>
      <origin xyz="2.40548098907604e-05 0.0170200166175038 0.00743211422338727" rpy="0.0 -0.0 0.0" />
      <mass value="0.0528420021206123" />
      <inertia ixx="8.46927525862569e-06" ixy="3.77104103813554e-08" ixz="-2.40264131836263e-09" iyy="9.18514204610879e-06" iyz="3.33117292501083e-07" izz="7.42897064027825e-06" />
    </inertial>
    <visual>
      <geometry>
        <mesh filename="package://screw_cross_module_cover_invert_50mm/meshes/link1.dae" />
      </geometry>
      <material name="middle_module1___unnamed_material_2" />
      <origin xyz="0.0 0.0 0.0" rpy="0.0 -0.0 0.0" />
    </visual>
    <collision>
      <geometry>
        <mesh filename="package://screw_cross_module_cover_invert_50mm/meshes/link1.dae" />
      </geometry>
      <origin xyz="0.0 0.0 0.0" rpy="0.0 -0.0 0.0" />
    </collision>
  </link>
  <link name="middle_module1_link2">
    <inertial>
      <origin xyz="-0.000799904651096249 0.000126545018078978 0.0439031855091127" rpy="0.0 -0.0 0.0" />
      <mass value="0.0184890044461961" />
      <inertia ixx="3.86018266499349e-06" ixy="-2.57346007074634e-09" ixz="-1.33830705751634e-08" iyy="3.71216828080987e-06" iyz="1.02631852497554e-09" izz="3.85438258007771e-06" />
    </inertial>
    <visual>
      <geometry>
        <mesh filename="package://screw_cross_module_cover_invert_50mm/meshes/link2.dae" />
      </geometry>
      <material name="middle_module1___unnamed_material_3" />
      <origin xyz="0.0 0.0 0.0" rpy="0.0 -0.0 0.0" />
    </visual>
    <collision>
      <geometry>
        <mesh filename="package://screw_cross_module_cover_invert_50mm/meshes/link2.dae" />
      </geometry>
      <origin xyz="0.0 0.0 0.0" rpy="0.0 -0.0 0.0" />
    </collision>
  </link>
  <link name="middle_module1_dummy_link">
    <inertial>
      <origin xyz="-0.00146131369472048 0.000201870283507455 -0.00283550060362608" rpy="0.0 -0.0 0.0" />
      <mass value="0.00131295075943631" />
      <inertia ixx="5.41755504446202e-08" ixy="1.27650591705179e-09" ixz="-4.82976525885559e-09" iyy="5.88144881419791e-08" iyz="3.56234285318554e-10" izz="1.05520720481508e-07" />
    </inertial>
    <visual>
      <geometry>
        <mesh filename="package://screw_cross_module_cover_invert_50mm/meshes/dummy_link.dae" />
      </geometry>
      <material name="middle_module1___unnamed_material_4" />
      <origin xyz="0.0 0.0 0.0" rpy="0.0 -0.0 0.0" />
    </visual>
    <collision>
      <geometry>
        <mesh filename="package://screw_cross_module_cover_invert_50mm/meshes/dummy_link.dae" />
      </geometry>
      <origin xyz="0.0 0.0 0.0" rpy="0.0 -0.0 0.0" />
    </collision>
  </link>
  <joint name="middle_module1_joint1" type="revolute">
    <limit effort="0.0" lower="-1.5" upper="1.5" velocity="0.0" />
    <parent link="middle_module1_base_link" />
    <child link="middle_module1_link1" />
    <axis xyz=" 0. -1.  0." />
    <origin xyz="0.0 0.0 0.0349999999999999" rpy="0.0 -0.0 0.0" />
  </joint>
  <joint name="middle_module1_joint2" type="revolute">
    <limit effort="0.0" lower="-0.698" upper="1.57" velocity="0.0" />
    <parent link="middle_module1_link1" />
    <child link="middle_module1_link2" />
    <axis xyz="1. 0. 0." />
    <origin xyz="0.0 0.0 0.0" rpy="0.0 -0.0 0.0" />
  </joint>
  <joint name="middle_module1_dummy_joint" type="fixed">
    <limit effort="0.0" velocity="0.0" />
    <parent link="middle_module1_link2" />
    <child link="middle_module1_dummy_link" />
    <axis xyz="0. 0. 0." />
    <origin xyz="0.0 0.0 0.0569999998698719" rpy="0.0 -0.0 -1.5707963267949003" />
  </joint>
  <material name="middle_module1___unnamed_material_1">
    <color rgba="0.75294118 0.75294118 0.75294118 1.        " />
  </material>
  <material name="middle_module1___unnamed_material_2">
    <color rgba="0.29803922 0.29803922 0.29803922 1.        " />
  </material>
  <material name="middle_module1___unnamed_material_3">
    <color rgba="0.75294118 0.75294118 0.75294118 1.        " />
  </material>
  <material name="middle_module1___unnamed_material_4">
    <color rgba="0.79215686 0.81960784 0.93333333 1.        " />
  </material>
  <joint name="middle_module1_dummy_link_to_middle_module2_base_link_joint" type="fixed">
    <parent link="middle_module1_dummy_link" />
    <child link="middle_module2_base_link" />
    <origin xyz="0 0 0" rpy="0 0 -1.5707963267948966" />
  </joint>
  <link name="middle_module2_base_link">
    <inertial>
      <origin xyz="-0.000397243037985137 -0.000299123988951571 0.0268900174967925" rpy="0.0 -0.0 0.0" />
      <mass value="0.0392907478850212" />
      <inertia ixx="6.49315163386437e-06" ixy="-1.58700153015025e-07" ixz="1.07943557378575e-07" iyy="7.59585884582494e-06" iyz="-1.02493309535865e-09" izz="5.32693747823652e-06" />
    </inertial>
    <visual>
      <geometry>
        <mesh filename="package://screw_26mmhinge_module_cover_0deg/meshes/base_link.dae" />
      </geometry>
      <material name="middle_module2___unnamed_material_1" />
      <origin xyz="0.0 0.0 0.0" rpy="0.0 -0.0 0.0" />
    </visual>
    <collision>
      <geometry>
        <mesh filename="package://screw_26mmhinge_module_cover_0deg/meshes/base_link.dae" />
      </geometry>
      <origin xyz="0.0 0.0 0.0" rpy="0.0 -0.0 0.0" />
    </collision>
  </link>
  <link name="middle_module2_link1">
    <inertial>
      <origin xyz="0.00050176181802974 0.000131881332311372 0.0261566388593281" rpy="0.0 -0.0 0.0" />
      <mass value="0.015679495466009" />
      <inertia ixx="2.36251577154097e-06" ixy="-2.28902268828607e-09" ixz="1.04881203366641e-08" iyy="2.26742863290264e-06" iyz="5.68818291644029e-09" izz="3.78920030884968e-06" />
    </inertial>
    <visual>
      <geometry>
        <mesh filename="package://screw_26mmhinge_module_cover_0deg/meshes/link1.dae" />
      </geometry>
      <material name="middle_module2___unnamed_material_2" />
      <origin xyz="0.0 0.0 0.0" rpy="0.0 -0.0 0.0" />
    </visual>
    <collision>
      <geometry>
        <mesh filename="package://screw_26mmhinge_module_cover_0deg/meshes/link1.dae" />
      </geometry>
      <origin xyz="0.0 0.0 0.0" rpy="0.0 -0.0 0.0" />
    </collision>
  </link>
  <link name="middle_module2_dummy_link">
    <inertial>
      <origin xyz="-0.0014613136949066 0.000201870283592702 -0.00283550060370832" rpy="0.0 -0.0 0.0" />
      <mass value="0.00131295075943631" />
      <inertia ixx="5.41755504446753e-08" ixy="1.27650591704971e-09" ixz="-4.82976525914748e-09" iyy="5.88144881419792e-08" iyz="3.56234285325651e-10" izz="1.05520720481453e-07" />
    </inertial>
    <visual>
      <geometry>
        <mesh filename="package://screw_26mmhinge_module_cover_0deg/meshes/dummy_link.dae" />
      </geometry>
      <material name="middle_module2___unnamed_material_3" />
      <origin xyz="0.0 0.0 0.0" rpy="0.0 -0.0 0.0" />
    </visual>
    <collision>
      <geometry>
        <mesh filename="package://screw_26mmhinge_module_cover_0deg/meshes/dummy_link.dae" />
      </geometry>
      <origin xyz="0.0 0.0 0.0" rpy="0.0 -0.0 0.0" />
    </collision>
  </link>
  <joint name="middle_module2_joint1" type="revolute">
    <limit effort="0.0" lower="0.0" upper="1.78" velocity="0.0" />
    <parent link="middle_module2_base_link" />
    <child link="middle_module2_link1" />
    <axis xyz="-1.  0.  0." />
    <origin xyz="0.0 0.0 0.04" rpy="0.0 -0.0 0.0" />
  </joint>
  <joint name="middle_module2_dummy_joint" type="fixed">
    <limit effort="0.0" velocity="0.0" />
    <parent link="middle_module2_link1" />
    <child link="middle_module2_dummy_link" />
    <axis xyz="0. 0. 0." />
    <origin xyz="0.0 0.0 0.033" rpy="0.0 -0.0 -1.57079632679492" />
  </joint>
  <material name="middle_module2___unnamed_material_1">
    <color rgba="0.75294118 0.75294118 0.75294118 1.        " />
  </material>
  <material name="middle_module2___unnamed_material_2">
    <color rgba="0.29803922 0.29803922 0.29803922 1.        " />
  </material>
  <material name="middle_module2___unnamed_material_3">
    <color rgba="0.79215686 0.81960784 0.93333333 1.        " />
  </material>
  <joint name="middle_module2_dummy_link_to_middle_module3_base_link_joint" type="fixed">
    <parent link="middle_module2_dummy_link" />
    <child link="middle_module3_base_link" />
    <origin xyz="0 0 0" rpy="0 0 1.5707963267948966" />
  </joint>
  <link name="middle_module3_base_link">
    <inertial>
      <origin xyz="-0.000401252669389229 -0.000241503883848603 0.0265833789284656" rpy="0.0 -0.0 0.0" />
      <mass value="0.0388983022333583" />
      <inertia ixx="6.28968153745185e-06" ixy="-1.58891717516252e-07" ixz="1.06958872572826e-07" iyy="7.30853508101172e-06" iyz="2.75384527151901e-08" izz="5.23270325750328e-06" />
    </inertial>
    <visual>
      <geometry>
        <mesh filename="package://screw_26mmhinge_module_cover_40deg/meshes/base_link.dae" />
      </geometry>
      <material name="middle_module3___unnamed_material_1" />
      <origin xyz="0.0 0.0 0.0" rpy="0.0 -0.0 0.0" />
    </visual>
    <collision>
      <geometry>
        <mesh filename="package://screw_26mmhinge_module_cover_40deg/meshes/base_link.dae" />
      </geometry>
      <origin xyz="0.0 0.0 0.0" rpy="0.0 -0.0 0.0" />
    </collision>
  </link>
  <link name="middle_module3_link1">
    <inertial>
      <origin xyz="0.00050176181802974 0.000131881332311375 0.0261566388593281" rpy="0.0 -0.0 0.0" />
      <mass value="0.0156794954660089" />
      <inertia ixx="2.36251577154097e-06" ixy="-2.28902268828719e-09" ixz="1.04881203366649e-08" iyy="2.26742863290264e-06" iyz="5.68818291644002e-09" izz="3.78920030884968e-06" />
    </inertial>
    <visual>
      <geometry>
        <mesh filename="package://screw_26mmhinge_module_cover_40deg/meshes/link1.dae" />
      </geometry>
      <material name="middle_module3___unnamed_material_2" />
      <origin xyz="0.0 0.0 0.0" rpy="0.0 -0.0 0.0" />
    </visual>
    <collision>
      <geometry>
        <mesh filename="package://screw_26mmhinge_module_cover_40deg/meshes/link1.dae" />
      </geometry>
      <origin xyz="0.0 0.0 0.0" rpy="0.0 -0.0 0.0" />
    </collision>
  </link>
  <link name="middle_module3_dummy_link">
    <inertial>
      <origin xyz="-0.0014613136949066 0.000201870283592712 -0.00283550060370834" rpy="0.0 -0.0 0.0" />
      <mass value="0.00131295075943631" />
      <inertia ixx="5.41755504446752e-08" ixy="1.27650591704971e-09" ixz="-4.82976525914747e-09" iyy="5.88144881419792e-08" iyz="3.56234285325664e-10" izz="1.05520720481453e-07" />
    </inertial>
    <visual>
      <geometry>
        <mesh filename="package://screw_26mmhinge_module_cover_40deg/meshes/dummy_link.dae" />
      </geometry>
      <material name="middle_module3___unnamed_material_3" />
      <origin xyz="0.0 0.0 0.0" rpy="0.0 -0.0 0.0" />
    </visual>
    <collision>
      <geometry>
        <mesh filename="package://screw_26mmhinge_module_cover_40deg/meshes/dummy_link.dae" />
      </geometry>
      <origin xyz="0.0 0.0 0.0" rpy="0.0 -0.0 0.0" />
    </collision>
  </link>
  <joint name="middle_module3_joint1" type="revolute">
    <limit effort="0.0" lower="-0.698" upper="1.78" velocity="0.0" />
    <parent link="middle_module3_base_link" />
    <child link="middle_module3_link1" />
    <axis xyz="-1.  0.  0." />
    <origin xyz="0.0 0.0 0.04" rpy="0.0 -0.0 0.0" />
  </joint>
  <joint name="middle_module3_dummy_joint" type="fixed">
    <limit effort="0.0" velocity="0.0" />
    <parent link="middle_module3_link1" />
    <child link="middle_module3_dummy_link" />
    <axis xyz="0. 0. 0." />
    <origin xyz="0.0 0.0 0.033" rpy="0.0 -0.0 -1.57079632679492" />
  </joint>
  <material name="middle_module3___unnamed_material_1">
    <color rgba="1.         0.6627451  0.54117647 1.        " />
  </material>
  <material name="middle_module3___unnamed_material_2">
    <color rgba="0.29803922 0.29803922 0.29803922 1.        " />
  </material>
  <material name="middle_module3___unnamed_material_3">
    <color rgba="0.79215686 0.81960784 0.93333333 1.        " />
  </material>
  <joint name="middle_module3_dummy_link_to_middle_module4_base_link_joint" type="fixed">
    <parent link="middle_module3_dummy_link" />
    <child link="middle_module4_base_link" />
    <origin xyz="0 0 0" rpy="0 0 1.5707963267948966" />
  </joint>
  <link name="middle_module4_base_link">
    <inertial>
      <origin xyz="-4.45136749414631e-05 2.74911354251475e-05 0.01526296474957" rpy="0.0 -0.0 0.0" />
      <mass value="0.0143355339373342" />
      <inertia ixx="1.67198153889703e-06" ixy="-3.86118634343168e-09" ixz="2.09684473771432e-09" iyy="2.41636111915256e-06" iyz="2.62797611358753e-09" izz="2.60259577595367e-06" />
    </inertial>
    <visual>
      <geometry>
        <mesh filename="package://fingertip/meshes/base_link.dae" />
      </geometry>
      <material name="middle_module4___unnamed_material_1" />
      <origin xyz="0.0 0.0 0.0" rpy="0.0 -0.0 0.0" />
    </visual>
    <collision>
      <geometry>
        <mesh filename="package://fingertip/meshes/base_link.dae" />
      </geometry>
      <origin xyz="0.0 0.0 0.0" rpy="0.0 -0.0 0.0" />
    </collision>
  </link>
  <material name="middle_module4___unnamed_material_1">
    <color rgba="1.         0.6627451  0.54117647 1.        " />
  </material>
  <joint name="dummy_link4_to_index_module1_base_link_joint" type="fixed">
    <parent link="dummy_link4" />
    <child link="index_module1_base_link" />
    <origin xyz="0 0 0" rpy="0.0 0.0 3.14159265359" />
  </joint>
  <link name="index_module1_base_link">
    <inertial>
      <origin xyz="-0.000213433946328543 -0.000522257566248314 0.010512356078851" rpy="0.0 -0.0 0.0" />
      <mass value="0.0119791718336502" />
      <inertia ixx="1.31621870893497e-06" ixy="-5.13940617703683e-09" ixz="6.92655022774858e-09" iyy="1.42670892278346e-06" iyz="5.85355266632325e-09" izz="1.57468742862286e-06" />
    </inertial>
    <visual>
      <geometry>
        <mesh filename="package://screw_cross_module_cover_invert_50mm/meshes/base_link.dae" />
      </geometry>
      <material name="index_module1___unnamed_material_1" />
      <origin xyz="0.0 0.0 0.0" rpy="0.0 -0.0 0.0" />
    </visual>
    <collision>
      <geometry>
        <mesh filename="package://screw_cross_module_cover_invert_50mm/meshes/base_link.dae" />
      </geometry>
      <origin xyz="0.0 0.0 0.0" rpy="0.0 -0.0 0.0" />
    </collision>
  </link>
  <link name="index_module1_link1">
    <inertial>
      <origin xyz="2.40548098907604e-05 0.0170200166175038 0.00743211422338727" rpy="0.0 -0.0 0.0" />
      <mass value="0.0528420021206123" />
      <inertia ixx="8.46927525862569e-06" ixy="3.77104103813554e-08" ixz="-2.40264131836263e-09" iyy="9.18514204610879e-06" iyz="3.33117292501083e-07" izz="7.42897064027825e-06" />
    </inertial>
    <visual>
      <geometry>
        <mesh filename="package://screw_cross_module_cover_invert_50mm/meshes/link1.dae" />
      </geometry>
      <material name="index_module1___unnamed_material_2" />
      <origin xyz="0.0 0.0 0.0" rpy="0.0 -0.0 0.0" />
    </visual>
    <collision>
      <geometry>
        <mesh filename="package://screw_cross_module_cover_invert_50mm/meshes/link1.dae" />
      </geometry>
      <origin xyz="0.0 0.0 0.0" rpy="0.0 -0.0 0.0" />
    </collision>
  </link>
  <link name="index_module1_link2">
    <inertial>
      <origin xyz="-0.000799904651096249 0.000126545018078978 0.0439031855091127" rpy="0.0 -0.0 0.0" />
      <mass value="0.0184890044461961" />
      <inertia ixx="3.86018266499349e-06" ixy="-2.57346007074634e-09" ixz="-1.33830705751634e-08" iyy="3.71216828080987e-06" iyz="1.02631852497554e-09" izz="3.85438258007771e-06" />
    </inertial>
    <visual>
      <geometry>
        <mesh filename="package://screw_cross_module_cover_invert_50mm/meshes/link2.dae" />
      </geometry>
      <material name="index_module1___unnamed_material_3" />
      <origin xyz="0.0 0.0 0.0" rpy="0.0 -0.0 0.0" />
    </visual>
    <collision>
      <geometry>
        <mesh filename="package://screw_cross_module_cover_invert_50mm/meshes/link2.dae" />
      </geometry>
      <origin xyz="0.0 0.0 0.0" rpy="0.0 -0.0 0.0" />
    </collision>
  </link>
  <link name="index_module1_dummy_link">
    <inertial>
      <origin xyz="-0.00146131369472048 0.000201870283507455 -0.00283550060362608" rpy="0.0 -0.0 0.0" />
      <mass value="0.00131295075943631" />
      <inertia ixx="5.41755504446202e-08" ixy="1.27650591705179e-09" ixz="-4.82976525885559e-09" iyy="5.88144881419791e-08" iyz="3.56234285318554e-10" izz="1.05520720481508e-07" />
    </inertial>
    <visual>
      <geometry>
        <mesh filename="package://screw_cross_module_cover_invert_50mm/meshes/dummy_link.dae" />
      </geometry>
      <material name="index_module1___unnamed_material_4" />
      <origin xyz="0.0 0.0 0.0" rpy="0.0 -0.0 0.0" />
    </visual>
    <collision>
      <geometry>
        <mesh filename="package://screw_cross_module_cover_invert_50mm/meshes/dummy_link.dae" />
      </geometry>
      <origin xyz="0.0 0.0 0.0" rpy="0.0 -0.0 0.0" />
    </collision>
  </link>
  <joint name="index_module1_joint1" type="revolute">
    <limit effort="0.0" lower="-1.5" upper="1.5" velocity="0.0" />
    <parent link="index_module1_base_link" />
    <child link="index_module1_link1" />
    <axis xyz=" 0. -1.  0." />
    <origin xyz="0.0 0.0 0.0349999999999999" rpy="0.0 -0.0 0.0" />
  </joint>
  <joint name="index_module1_joint2" type="revolute">
    <limit effort="0.0" lower="-0.698" upper="1.57" velocity="0.0" />
    <parent link="index_module1_link1" />
    <child link="index_module1_link2" />
    <axis xyz="1. 0. 0." />
    <origin xyz="0.0 0.0 0.0" rpy="0.0 -0.0 0.0" />
  </joint>
  <joint name="index_module1_dummy_joint" type="fixed">
    <limit effort="0.0" velocity="0.0" />
    <parent link="index_module1_link2" />
    <child link="index_module1_dummy_link" />
    <axis xyz="0. 0. 0." />
    <origin xyz="0.0 0.0 0.0569999998698719" rpy="0.0 -0.0 -1.5707963267949003" />
  </joint>
  <material name="index_module1___unnamed_material_1">
    <color rgba="0.75294118 0.75294118 0.75294118 1.        " />
  </material>
  <material name="index_module1___unnamed_material_2">
    <color rgba="0.29803922 0.29803922 0.29803922 1.        " />
  </material>
  <material name="index_module1___unnamed_material_3">
    <color rgba="0.75294118 0.75294118 0.75294118 1.        " />
  </material>
  <material name="index_module1___unnamed_material_4">
    <color rgba="0.79215686 0.81960784 0.93333333 1.        " />
  </material>
  <joint name="index_module1_dummy_link_to_index_module2_base_link_joint" type="fixed">
    <parent link="index_module1_dummy_link" />
    <child link="index_module2_base_link" />
    <origin xyz="0 0 0" rpy="0 0 -1.5707963267948966" />
  </joint>
  <link name="index_module2_base_link">
    <inertial>
      <origin xyz="-0.000397243037985137 -0.000299123988951571 0.0268900174967925" rpy="0.0 -0.0 0.0" />
      <mass value="0.0392907478850212" />
      <inertia ixx="6.49315163386437e-06" ixy="-1.58700153015025e-07" ixz="1.07943557378575e-07" iyy="7.59585884582494e-06" iyz="-1.02493309535865e-09" izz="5.32693747823652e-06" />
    </inertial>
    <visual>
      <geometry>
        <mesh filename="package://screw_26mmhinge_module_cover_0deg/meshes/base_link.dae" />
      </geometry>
      <material name="index_module2___unnamed_material_1" />
      <origin xyz="0.0 0.0 0.0" rpy="0.0 -0.0 0.0" />
    </visual>
    <collision>
      <geometry>
        <mesh filename="package://screw_26mmhinge_module_cover_0deg/meshes/base_link.dae" />
      </geometry>
      <origin xyz="0.0 0.0 0.0" rpy="0.0 -0.0 0.0" />
    </collision>
  </link>
  <link name="index_module2_link1">
    <inertial>
      <origin xyz="0.00050176181802974 0.000131881332311372 0.0261566388593281" rpy="0.0 -0.0 0.0" />
      <mass value="0.015679495466009" />
      <inertia ixx="2.36251577154097e-06" ixy="-2.28902268828607e-09" ixz="1.04881203366641e-08" iyy="2.26742863290264e-06" iyz="5.68818291644029e-09" izz="3.78920030884968e-06" />
    </inertial>
    <visual>
      <geometry>
        <mesh filename="package://screw_26mmhinge_module_cover_0deg/meshes/link1.dae" />
      </geometry>
      <material name="index_module2___unnamed_material_2" />
      <origin xyz="0.0 0.0 0.0" rpy="0.0 -0.0 0.0" />
    </visual>
    <collision>
      <geometry>
        <mesh filename="package://screw_26mmhinge_module_cover_0deg/meshes/link1.dae" />
      </geometry>
      <origin xyz="0.0 0.0 0.0" rpy="0.0 -0.0 0.0" />
    </collision>
  </link>
  <link name="index_module2_dummy_link">
    <inertial>
      <origin xyz="-0.0014613136949066 0.000201870283592702 -0.00283550060370832" rpy="0.0 -0.0 0.0" />
      <mass value="0.00131295075943631" />
      <inertia ixx="5.41755504446753e-08" ixy="1.27650591704971e-09" ixz="-4.82976525914748e-09" iyy="5.88144881419792e-08" iyz="3.56234285325651e-10" izz="1.05520720481453e-07" />
    </inertial>
    <visual>
      <geometry>
        <mesh filename="package://screw_26mmhinge_module_cover_0deg/meshes/dummy_link.dae" />
      </geometry>
      <material name="index_module2___unnamed_material_3" />
      <origin xyz="0.0 0.0 0.0" rpy="0.0 -0.0 0.0" />
    </visual>
    <collision>
      <geometry>
        <mesh filename="package://screw_26mmhinge_module_cover_0deg/meshes/dummy_link.dae" />
      </geometry>
      <origin xyz="0.0 0.0 0.0" rpy="0.0 -0.0 0.0" />
    </collision>
  </link>
  <joint name="index_module2_joint1" type="revolute">
    <limit effort="0.0" lower="0.0" upper="1.78" velocity="0.0" />
    <parent link="index_module2_base_link" />
    <child link="index_module2_link1" />
    <axis xyz="-1.  0.  0." />
    <origin xyz="0.0 0.0 0.04" rpy="0.0 -0.0 0.0" />
  </joint>
  <joint name="index_module2_dummy_joint" type="fixed">
    <limit effort="0.0" velocity="0.0" />
    <parent link="index_module2_link1" />
    <child link="index_module2_dummy_link" />
    <axis xyz="0. 0. 0." />
    <origin xyz="0.0 0.0 0.033" rpy="0.0 -0.0 -1.57079632679492" />
  </joint>
  <material name="index_module2___unnamed_material_1">
    <color rgba="0.75294118 0.75294118 0.75294118 1.        " />
  </material>
  <material name="index_module2___unnamed_material_2">
    <color rgba="0.29803922 0.29803922 0.29803922 1.        " />
  </material>
  <material name="index_module2___unnamed_material_3">
    <color rgba="0.79215686 0.81960784 0.93333333 1.        " />
  </material>
  <joint name="index_module2_dummy_link_to_index_module3_base_link_joint" type="fixed">
    <parent link="index_module2_dummy_link" />
    <child link="index_module3_base_link" />
    <origin xyz="0 0 0" rpy="0 0 1.5707963267948966" />
  </joint>
  <link name="index_module3_base_link">
    <inertial>
      <origin xyz="-0.000401252669389229 -0.000241503883848603 0.0265833789284656" rpy="0.0 -0.0 0.0" />
      <mass value="0.0388983022333583" />
      <inertia ixx="6.28968153745185e-06" ixy="-1.58891717516252e-07" ixz="1.06958872572826e-07" iyy="7.30853508101172e-06" iyz="2.75384527151901e-08" izz="5.23270325750328e-06" />
    </inertial>
    <visual>
      <geometry>
        <mesh filename="package://screw_26mmhinge_module_cover_40deg/meshes/base_link.dae" />
      </geometry>
      <material name="index_module3___unnamed_material_1" />
      <origin xyz="0.0 0.0 0.0" rpy="0.0 -0.0 0.0" />
    </visual>
    <collision>
      <geometry>
        <mesh filename="package://screw_26mmhinge_module_cover_40deg/meshes/base_link.dae" />
      </geometry>
      <origin xyz="0.0 0.0 0.0" rpy="0.0 -0.0 0.0" />
    </collision>
  </link>
  <link name="index_module3_link1">
    <inertial>
      <origin xyz="0.00050176181802974 0.000131881332311375 0.0261566388593281" rpy="0.0 -0.0 0.0" />
      <mass value="0.0156794954660089" />
      <inertia ixx="2.36251577154097e-06" ixy="-2.28902268828719e-09" ixz="1.04881203366649e-08" iyy="2.26742863290264e-06" iyz="5.68818291644002e-09" izz="3.78920030884968e-06" />
    </inertial>
    <visual>
      <geometry>
        <mesh filename="package://screw_26mmhinge_module_cover_40deg/meshes/link1.dae" />
      </geometry>
      <material name="index_module3___unnamed_material_2" />
      <origin xyz="0.0 0.0 0.0" rpy="0.0 -0.0 0.0" />
    </visual>
    <collision>
      <geometry>
        <mesh filename="package://screw_26mmhinge_module_cover_40deg/meshes/link1.dae" />
      </geometry>
      <origin xyz="0.0 0.0 0.0" rpy="0.0 -0.0 0.0" />
    </collision>
  </link>
  <link name="index_module3_dummy_link">
    <inertial>
      <origin xyz="-0.0014613136949066 0.000201870283592712 -0.00283550060370834" rpy="0.0 -0.0 0.0" />
      <mass value="0.00131295075943631" />
      <inertia ixx="5.41755504446752e-08" ixy="1.27650591704971e-09" ixz="-4.82976525914747e-09" iyy="5.88144881419792e-08" iyz="3.56234285325664e-10" izz="1.05520720481453e-07" />
    </inertial>
    <visual>
      <geometry>
        <mesh filename="package://screw_26mmhinge_module_cover_40deg/meshes/dummy_link.dae" />
      </geometry>
      <material name="index_module3___unnamed_material_3" />
      <origin xyz="0.0 0.0 0.0" rpy="0.0 -0.0 0.0" />
    </visual>
    <collision>
      <geometry>
        <mesh filename="package://screw_26mmhinge_module_cover_40deg/meshes/dummy_link.dae" />
      </geometry>
      <origin xyz="0.0 0.0 0.0" rpy="0.0 -0.0 0.0" />
    </collision>
  </link>
  <joint name="index_module3_joint1" type="revolute">
    <limit effort="0.0" lower="-0.698" upper="1.78" velocity="0.0" />
    <parent link="index_module3_base_link" />
    <child link="index_module3_link1" />
    <axis xyz="-1.  0.  0." />
    <origin xyz="0.0 0.0 0.04" rpy="0.0 -0.0 0.0" />
  </joint>
  <joint name="index_module3_dummy_joint" type="fixed">
    <limit effort="0.0" velocity="0.0" />
    <parent link="index_module3_link1" />
    <child link="index_module3_dummy_link" />
    <axis xyz="0. 0. 0." />
    <origin xyz="0.0 0.0 0.033" rpy="0.0 -0.0 -1.57079632679492" />
  </joint>
  <material name="index_module3___unnamed_material_1">
    <color rgba="1.         0.6627451  0.54117647 1.        " />
  </material>
  <material name="index_module3___unnamed_material_2">
    <color rgba="0.29803922 0.29803922 0.29803922 1.        " />
  </material>
  <material name="index_module3___unnamed_material_3">
    <color rgba="0.79215686 0.81960784 0.93333333 1.        " />
  </material>
  <joint name="index_module3_dummy_link_to_index_module4_base_link_joint" type="fixed">
    <parent link="index_module3_dummy_link" />
    <child link="index_module4_base_link" />
    <origin xyz="0 0 0" rpy="0 0 1.5707963267948966" />
  </joint>
  <link name="index_module4_base_link">
    <inertial>
      <origin xyz="-4.45136749414631e-05 2.74911354251475e-05 0.01526296474957" rpy="0.0 -0.0 0.0" />
      <mass value="0.0143355339373342" />
      <inertia ixx="1.67198153889703e-06" ixy="-3.86118634343168e-09" ixz="2.09684473771432e-09" iyy="2.41636111915256e-06" iyz="2.62797611358753e-09" izz="2.60259577595367e-06" />
    </inertial>
    <visual>
      <geometry>
        <mesh filename="package://fingertip/meshes/base_link.dae" />
      </geometry>
      <material name="index_module4___unnamed_material_1" />
      <origin xyz="0.0 0.0 0.0" rpy="0.0 -0.0 0.0" />
    </visual>
    <collision>
      <geometry>
        <mesh filename="package://fingertip/meshes/base_link.dae" />
      </geometry>
      <origin xyz="0.0 0.0 0.0" rpy="0.0 -0.0 0.0" />
    </collision>
  </link>
  <material name="index_module4___unnamed_material_1">
    <color rgba="1.         0.6627451  0.54117647 1.        " />
  </material>
  <joint name="dummy_link5_to_thumb_module1_base_link_joint" type="fixed">
    <parent link="dummy_link5" />
    <child link="thumb_module1_base_link" />
    <origin xyz="0 0 0" rpy="0 0 0" />
  </joint>
  <link name="thumb_module1_base_link">
    <inertial>
      <origin xyz="-0.000234526751972131 -0.00028602879195132 0.00492715673473502" rpy="0.0 -0.0 0.0" />
      <mass value="0.00883872367866773" />
      <inertia ixx="8.44969262482198e-07" ixy="-2.38438590170593e-09" ixz="4.75238560676722e-09" iyy="8.63389925030388e-07" iyz="5.42634773688696e-09" izz="1.43408773061232e-06" />
    </inertial>
    <visual>
      <geometry>
        <mesh filename="package://screw_cm_module/meshes/base_link.dae" />
      </geometry>
      <material name="thumb_module1___unnamed_material_1" />
      <origin xyz="0.0 0.0 0.0" rpy="0.0 -0.0 0.0" />
    </visual>
    <collision>
      <geometry>
        <mesh filename="package://screw_cm_module/meshes/base_link.dae" />
      </geometry>
      <origin xyz="0.0 0.0 0.0" rpy="0.0 -0.0 0.0" />
    </collision>
  </link>
  <link name="thumb_module1_link1">
    <inertial>
      <origin xyz="0.0122754950678387 0.00451490759273611 0.0192976588266299" rpy="0.0 -0.0 0.0" />
      <mass value="0.0525185279217828" />
      <inertia ixx="1.20898118628892e-05" ixy="6.79207945311754e-07" ixz="7.33692665286359e-07" iyy="1.05211895809663e-05" iyz="2.1948178305605e-07" izz="1.33437679174632e-05" />
    </inertial>
    <visual>
      <geometry>
        <mesh filename="package://screw_cm_module/meshes/link1.dae" />
      </geometry>
      <material name="thumb_module1___unnamed_material_2" />
      <origin xyz="0.0 0.0 0.0" rpy="0.0 -0.0 0.0" />
    </visual>
    <collision>
      <geometry>
        <mesh filename="package://screw_cm_module/meshes/link1.dae" />
      </geometry>
      <origin xyz="0.0 0.0 0.0" rpy="0.0 -0.0 0.0" />
    </collision>
  </link>
  <link name="thumb_module1_dummy_link">
    <inertial>
      <origin xyz="-0.0014613152281131 0.000201870812535348 -0.00283550672359347" rpy="0.0 -0.0 0.0" />
      <mass value="0.00131294858172581" />
      <inertia ixx="5.41755485203049e-08" ixy="1.27650587238183e-09" ixz="-4.82976540098191e-09" iyy="5.88144862744986e-08" iyz="3.56234284775796e-10" izz="1.05520720424416e-07" />
    </inertial>
    <visual>
      <geometry>
        <mesh filename="package://screw_cm_module/meshes/dummy_link.dae" />
      </geometry>
      <material name="thumb_module1___unnamed_material_3" />
      <origin xyz="0.0 0.0 0.0" rpy="0.0 -0.0 0.0" />
    </visual>
    <collision>
      <geometry>
        <mesh filename="package://screw_cm_module/meshes/dummy_link.dae" />
      </geometry>
      <origin xyz="0.0 0.0 0.0" rpy="0.0 -0.0 0.0" />
    </collision>
  </link>
  <joint name="thumb_module1_joint1" type="revolute">
    <limit effort="0.0" lower="-2.356" upper="2.356" velocity="0.0" />
    <parent link="thumb_module1_base_link" />
    <child link="thumb_module1_link1" />
    <axis xyz=" 0.  0. -1." />
    <origin xyz="0.0 0.0 0.012" rpy="0.0 -0.0 3.1415853071795867" />
  </joint>
  <joint name="thumb_module1_dummy_joint" type="fixed">
    <limit effort="0.0" velocity="0.0" />
    <parent link="thumb_module1_link1" />
    <child link="thumb_module1_dummy_link" />
    <axis xyz="0. 0. 0." />
    <origin xyz="0.0436109777441064 0.0 0.0270612891532417" rpy="-1.2930552091209 -0.0509380987630674 -1.5853120014244801" />
  </joint>
  <material name="thumb_module1___unnamed_material_1">
    <color rgba="0.29803922 0.29803922 0.29803922 1.        " />
  </material>
  <material name="thumb_module1___unnamed_material_2">
    <color rgba="0.29803922 0.29803922 0.29803922 1.        " />
  </material>
  <material name="thumb_module1___unnamed_material_3">
    <color rgba="0.79215686 0.81960784 0.93333333 1.        " />
  </material>
  <joint name="thumb_module1_dummy_link_to_thumb_module2_base_link_joint" type="fixed">
    <parent link="thumb_module1_dummy_link" />
    <child link="thumb_module2_base_link" />
    <origin xyz="0 0 0" rpy="0 0 0" />
  </joint>
  <link name="thumb_module2_base_link">
    <inertial>
      <origin xyz="-0.000401252669389229 -0.000241503883848603 0.0265833789284656" rpy="0.0 -0.0 0.0" />
      <mass value="0.0388983022333583" />
      <inertia ixx="6.28968153745185e-06" ixy="-1.58891717516252e-07" ixz="1.06958872572826e-07" iyy="7.30853508101172e-06" iyz="2.75384527151901e-08" izz="5.23270325750328e-06" />
    </inertial>
    <visual>
      <geometry>
        <mesh filename="package://screw_26mmhinge_module_cover_40deg/meshes/base_link.dae" />
      </geometry>
      <material name="thumb_module2___unnamed_material_1" />
      <origin xyz="0.0 0.0 0.0" rpy="0.0 -0.0 0.0" />
    </visual>
    <collision>
      <geometry>
        <mesh filename="package://screw_26mmhinge_module_cover_40deg/meshes/base_link.dae" />
      </geometry>
      <origin xyz="0.0 0.0 0.0" rpy="0.0 -0.0 0.0" />
    </collision>
  </link>
  <link name="thumb_module2_link1">
    <inertial>
      <origin xyz="0.00050176181802974 0.000131881332311375 0.0261566388593281" rpy="0.0 -0.0 0.0" />
      <mass value="0.0156794954660089" />
      <inertia ixx="2.36251577154097e-06" ixy="-2.28902268828719e-09" ixz="1.04881203366649e-08" iyy="2.26742863290264e-06" iyz="5.68818291644002e-09" izz="3.78920030884968e-06" />
    </inertial>
    <visual>
      <geometry>
        <mesh filename="package://screw_26mmhinge_module_cover_40deg/meshes/link1.dae" />
      </geometry>
      <material name="thumb_module2___unnamed_material_2" />
      <origin xyz="0.0 0.0 0.0" rpy="0.0 -0.0 0.0" />
    </visual>
    <collision>
      <geometry>
        <mesh filename="package://screw_26mmhinge_module_cover_40deg/meshes/link1.dae" />
      </geometry>
      <origin xyz="0.0 0.0 0.0" rpy="0.0 -0.0 0.0" />
    </collision>
  </link>
  <link name="thumb_module2_dummy_link">
    <inertial>
      <origin xyz="-0.0014613136949066 0.000201870283592712 -0.00283550060370834" rpy="0.0 -0.0 0.0" />
      <mass value="0.00131295075943631" />
      <inertia ixx="5.41755504446752e-08" ixy="1.27650591704971e-09" ixz="-4.82976525914747e-09" iyy="5.88144881419792e-08" iyz="3.56234285325664e-10" izz="1.05520720481453e-07" />
    </inertial>
    <visual>
      <geometry>
        <mesh filename="package://screw_26mmhinge_module_cover_40deg/meshes/dummy_link.dae" />
      </geometry>
      <material name="thumb_module2___unnamed_material_3" />
      <origin xyz="0.0 0.0 0.0" rpy="0.0 -0.0 0.0" />
    </visual>
    <collision>
      <geometry>
        <mesh filename="package://screw_26mmhinge_module_cover_40deg/meshes/dummy_link.dae" />
      </geometry>
      <origin xyz="0.0 0.0 0.0" rpy="0.0 -0.0 0.0" />
    </collision>
  </link>
  <joint name="thumb_module2_joint1" type="revolute">
    <limit effort="0.0" lower="-0.698" upper="1.78" velocity="0.0" />
    <parent link="thumb_module2_base_link" />
    <child link="thumb_module2_link1" />
    <axis xyz="-1.  0.  0." />
    <origin xyz="0.0 0.0 0.04" rpy="0.0 -0.0 0.0" />
  </joint>
  <joint name="thumb_module2_dummy_joint" type="fixed">
    <limit effort="0.0" velocity="0.0" />
    <parent link="thumb_module2_link1" />
    <child link="thumb_module2_dummy_link" />
    <axis xyz="0. 0. 0." />
    <origin xyz="0.0 0.0 0.033" rpy="0.0 -0.0 -1.57079632679492" />
  </joint>
  <material name="thumb_module2___unnamed_material_1">
    <color rgba="1.         0.6627451  0.54117647 1.        " />
  </material>
  <material name="thumb_module2___unnamed_material_2">
    <color rgba="0.29803922 0.29803922 0.29803922 1.        " />
  </material>
  <material name="thumb_module2___unnamed_material_3">
    <color rgba="0.79215686 0.81960784 0.93333333 1.        " />
  </material>
  <joint name="thumb_module2_dummy_link_to_thumb_module3_base_link_joint" type="fixed">
    <parent link="thumb_module2_dummy_link" />
    <child link="thumb_module3_base_link" />
    <origin xyz="0 0 0" rpy="0 0 1.5707963267948966" />
  </joint>
  <link name="thumb_module3_base_link">
    <inertial>
      <origin xyz="-0.000401252669389229 -0.000241503883848603 0.0265833789284656" rpy="0.0 -0.0 0.0" />
      <mass value="0.0388983022333583" />
      <inertia ixx="6.28968153745185e-06" ixy="-1.58891717516252e-07" ixz="1.06958872572826e-07" iyy="7.30853508101172e-06" iyz="2.75384527151901e-08" izz="5.23270325750328e-06" />
    </inertial>
    <visual>
      <geometry>
        <mesh filename="package://screw_26mmhinge_module_cover_40deg/meshes/base_link.dae" />
      </geometry>
      <material name="thumb_module3___unnamed_material_1" />
      <origin xyz="0.0 0.0 0.0" rpy="0.0 -0.0 0.0" />
    </visual>
    <collision>
      <geometry>
        <mesh filename="package://screw_26mmhinge_module_cover_40deg/meshes/base_link.dae" />
      </geometry>
      <origin xyz="0.0 0.0 0.0" rpy="0.0 -0.0 0.0" />
    </collision>
  </link>
  <link name="thumb_module3_link1">
    <inertial>
      <origin xyz="0.00050176181802974 0.000131881332311375 0.0261566388593281" rpy="0.0 -0.0 0.0" />
      <mass value="0.0156794954660089" />
      <inertia ixx="2.36251577154097e-06" ixy="-2.28902268828719e-09" ixz="1.04881203366649e-08" iyy="2.26742863290264e-06" iyz="5.68818291644002e-09" izz="3.78920030884968e-06" />
    </inertial>
    <visual>
      <geometry>
        <mesh filename="package://screw_26mmhinge_module_cover_40deg/meshes/link1.dae" />
      </geometry>
      <material name="thumb_module3___unnamed_material_2" />
      <origin xyz="0.0 0.0 0.0" rpy="0.0 -0.0 0.0" />
    </visual>
    <collision>
      <geometry>
        <mesh filename="package://screw_26mmhinge_module_cover_40deg/meshes/link1.dae" />
      </geometry>
      <origin xyz="0.0 0.0 0.0" rpy="0.0 -0.0 0.0" />
    </collision>
  </link>
  <link name="thumb_module3_dummy_link">
    <inertial>
      <origin xyz="-0.0014613136949066 0.000201870283592712 -0.00283550060370834" rpy="0.0 -0.0 0.0" />
      <mass value="0.00131295075943631" />
      <inertia ixx="5.41755504446752e-08" ixy="1.27650591704971e-09" ixz="-4.82976525914747e-09" iyy="5.88144881419792e-08" iyz="3.56234285325664e-10" izz="1.05520720481453e-07" />
    </inertial>
    <visual>
      <geometry>
        <mesh filename="package://screw_26mmhinge_module_cover_40deg/meshes/dummy_link.dae" />
      </geometry>
      <material name="thumb_module3___unnamed_material_3" />
      <origin xyz="0.0 0.0 0.0" rpy="0.0 -0.0 0.0" />
    </visual>
    <collision>
      <geometry>
        <mesh filename="package://screw_26mmhinge_module_cover_40deg/meshes/dummy_link.dae" />
      </geometry>
      <origin xyz="0.0 0.0 0.0" rpy="0.0 -0.0 0.0" />
    </collision>
  </link>
  <joint name="thumb_module3_joint1" type="revolute">
    <limit effort="0.0" lower="-0.698" upper="1.78" velocity="0.0" />
    <parent link="thumb_module3_base_link" />
    <child link="thumb_module3_link1" />
    <axis xyz="-1.  0.  0." />
    <origin xyz="0.0 0.0 0.04" rpy="0.0 -0.0 0.0" />
  </joint>
  <joint name="thumb_module3_dummy_joint" type="fixed">
    <limit effort="0.0" velocity="0.0" />
    <parent link="thumb_module3_link1" />
    <child link="thumb_module3_dummy_link" />
    <axis xyz="0. 0. 0." />
    <origin xyz="0.0 0.0 0.033" rpy="0.0 -0.0 -1.57079632679492" />
  </joint>
  <material name="thumb_module3___unnamed_material_1">
    <color rgba="1.         0.6627451  0.54117647 1.        " />
  </material>
  <material name="thumb_module3___unnamed_material_2">
    <color rgba="0.29803922 0.29803922 0.29803922 1.        " />
  </material>
  <material name="thumb_module3___unnamed_material_3">
    <color rgba="0.79215686 0.81960784 0.93333333 1.        " />
  </material>
  <joint name="thumb_module3_dummy_link_to_thumb_module4_base_link_joint" type="fixed">
    <parent link="thumb_module3_dummy_link" />
    <child link="thumb_module4_base_link" />
    <origin xyz="0 0 0" rpy="0 0 1.5707963267948966" />
  </joint>
  <link name="thumb_module4_base_link">
    <inertial>
      <origin xyz="-4.45136749414631e-05 2.74911354251475e-05 0.01526296474957" rpy="0.0 -0.0 0.0" />
      <mass value="0.0143355339373342" />
      <inertia ixx="1.67198153889703e-06" ixy="-3.86118634343168e-09" ixz="2.09684473771432e-09" iyy="2.41636111915256e-06" iyz="2.62797611358753e-09" izz="2.60259577595367e-06" />
    </inertial>
    <visual>
      <geometry>
        <mesh filename="package://fingertip/meshes/base_link.dae" />
      </geometry>
      <material name="thumb_module4___unnamed_material_1" />
      <origin xyz="0.0 0.0 0.0" rpy="0.0 -0.0 0.0" />
    </visual>
    <collision>
      <geometry>
        <mesh filename="package://fingertip/meshes/base_link.dae" />
      </geometry>
      <origin xyz="0.0 0.0 0.0" rpy="0.0 -0.0 0.0" />
    </collision>
  </link>
  <material name="thumb_module4___unnamed_material_1">
    <color rgba="1.         0.6627451  0.54117647 1.        " />
  </material>
</robot>
